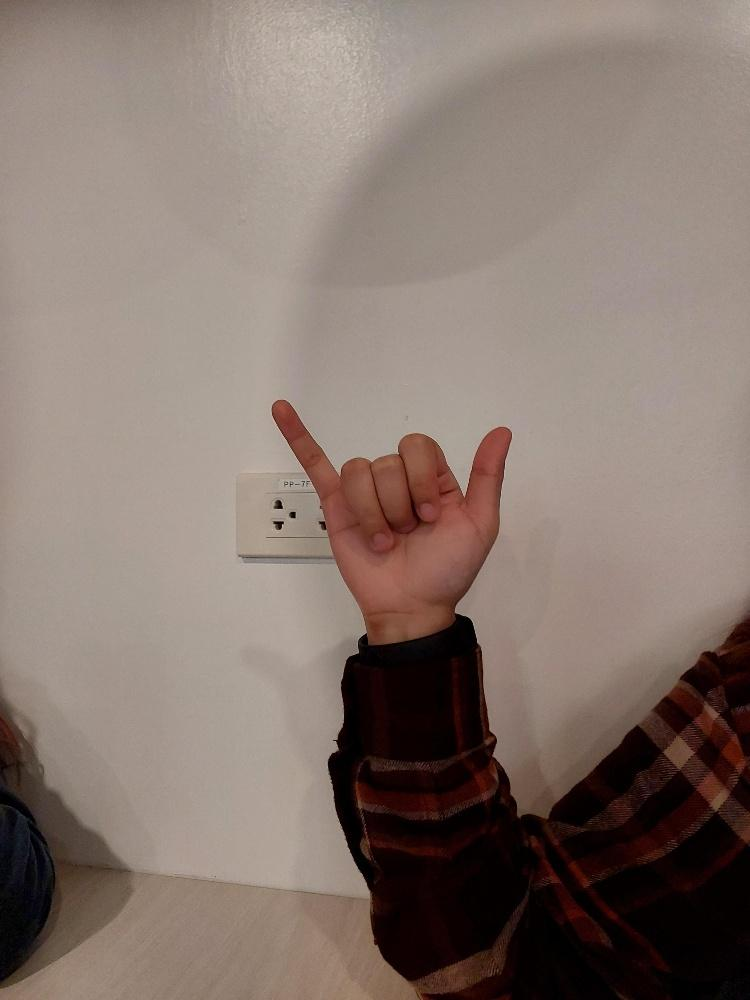y: (266, 394, 514, 620)
